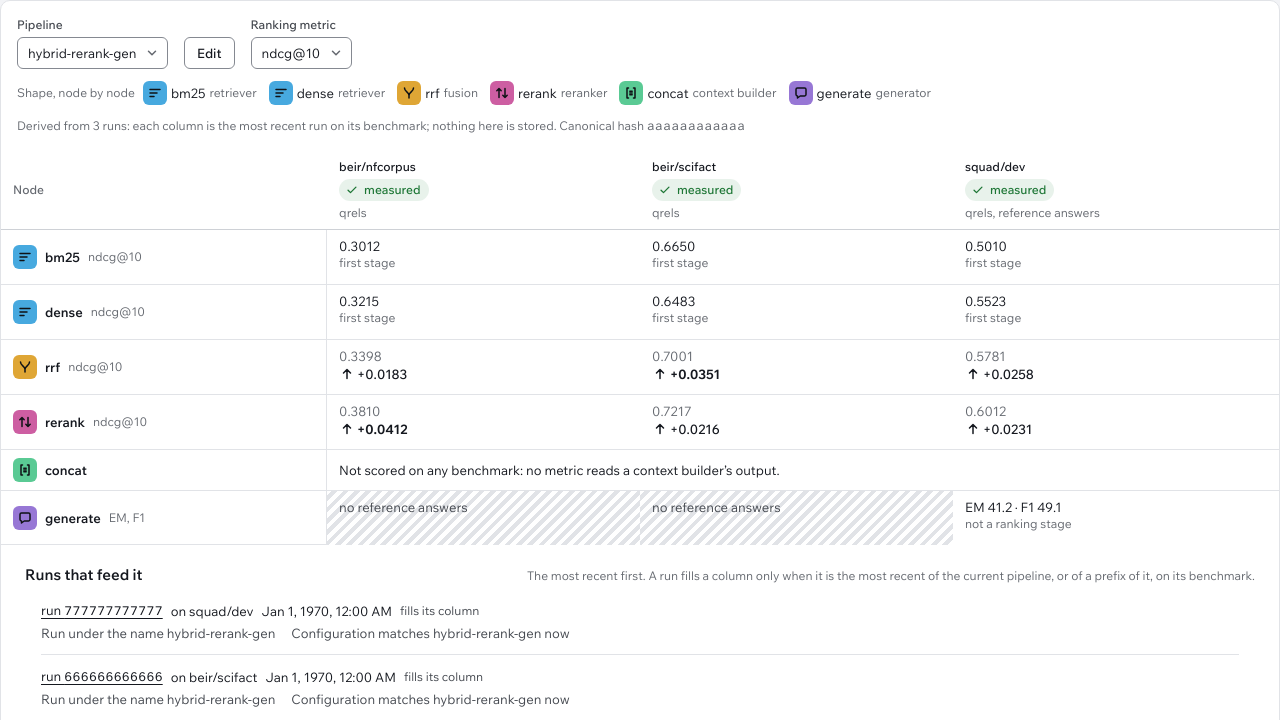
Test: the header › reads every ranking row by the ranking metric chosen, ndcg@10 by default as every view opens on
This screenshot has width=1280, height=720.
Expected: the column heading "rerank ndcg@10" is shown, top-left (1, 395), bottom-right (327, 450)
Select "mrr" in the dropdown labelled "Ranking metric". click: (301, 53)
box: top-left (250, 37), bottom-right (352, 69)
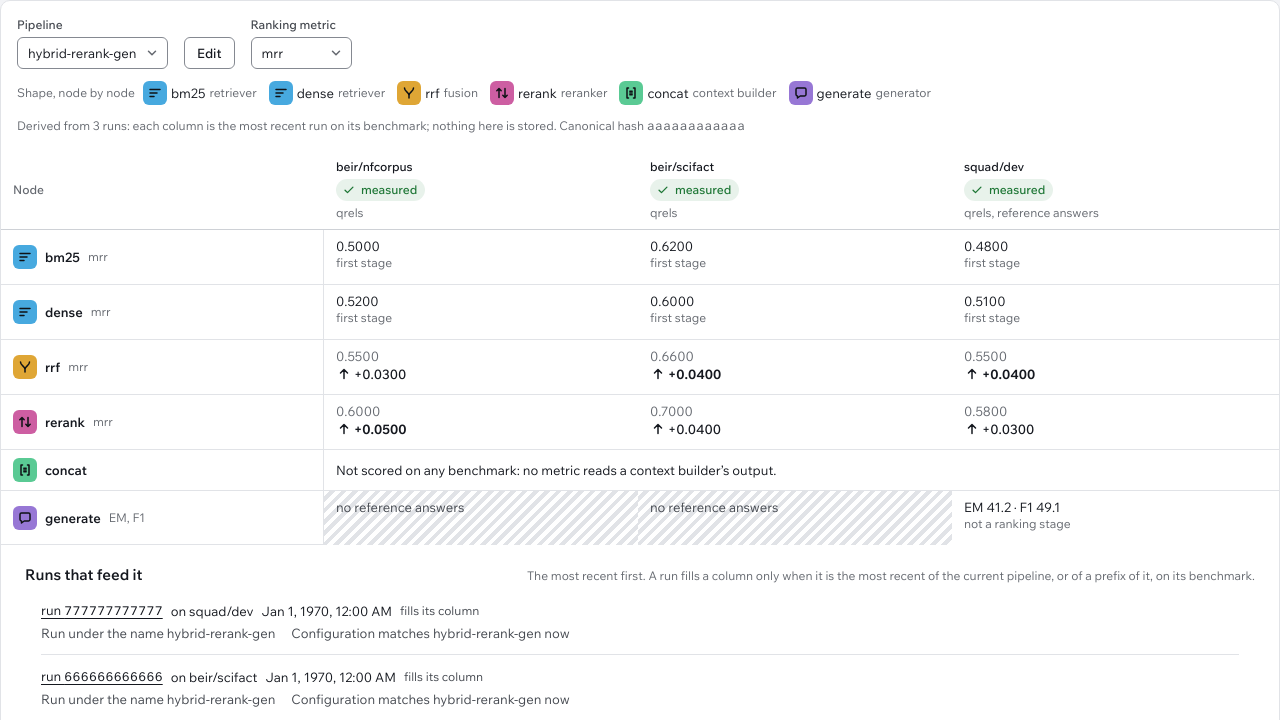
Expected: the column heading "rerank mrr" is shown, top-left (1, 395), bottom-right (324, 450)
